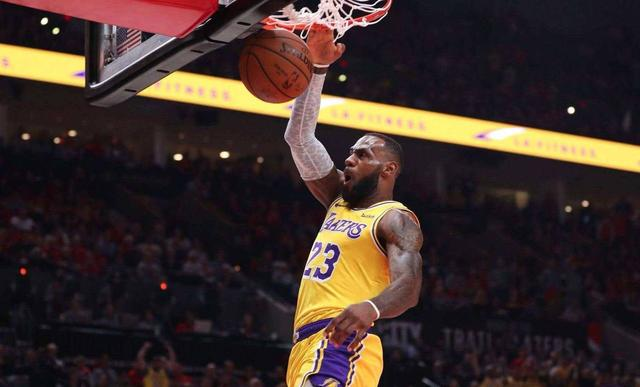ball: (239, 28, 313, 104)
